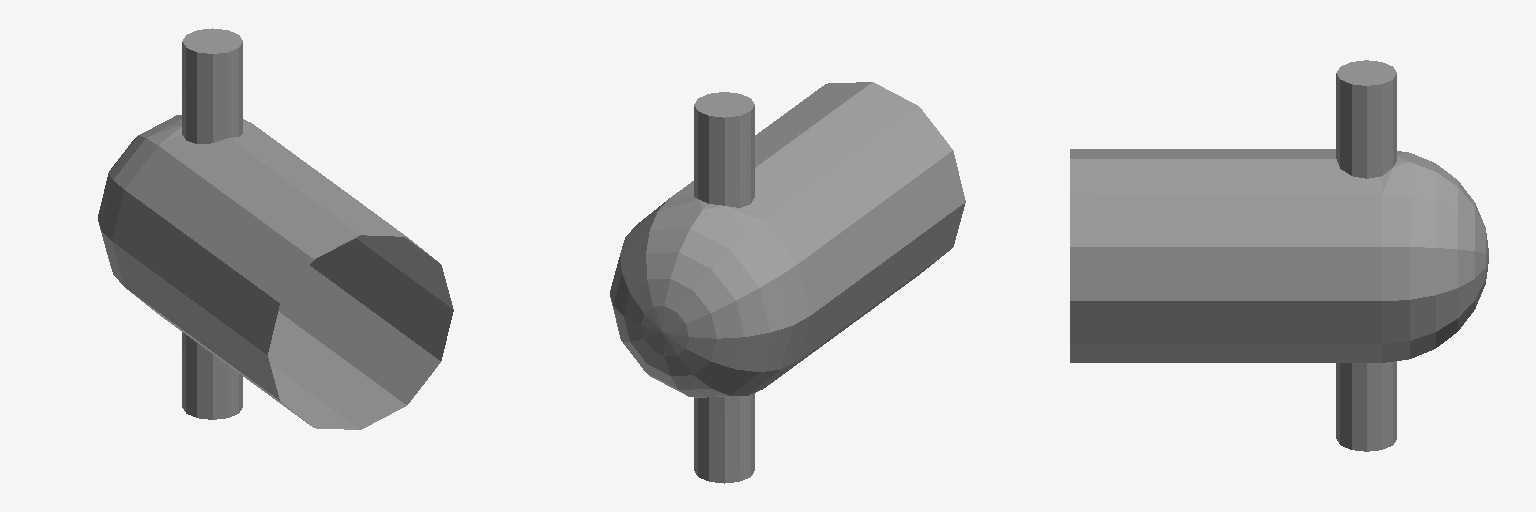
File: WallGunBasePt7.obj
3 renders of one model, left to right at view 1: azimuth 30°, elevation 25°; view 2: azimuth 150°, elevation 25°; view 3: azimuth 270°, elevation 25°, orthographic.
Parts seen in each view (by area): view 1: Cube.002; view 2: Cube.002; view 3: Cube.002.
Boxes of the visible parts, <box> form: Cube.002: <box>98,28,453,429</box>; Cube.002: <box>610,82,965,483</box>; Cube.002: <box>1070,60,1488,451</box>.
Size of the model in its own units: 2 by 3.76 by 3.9.